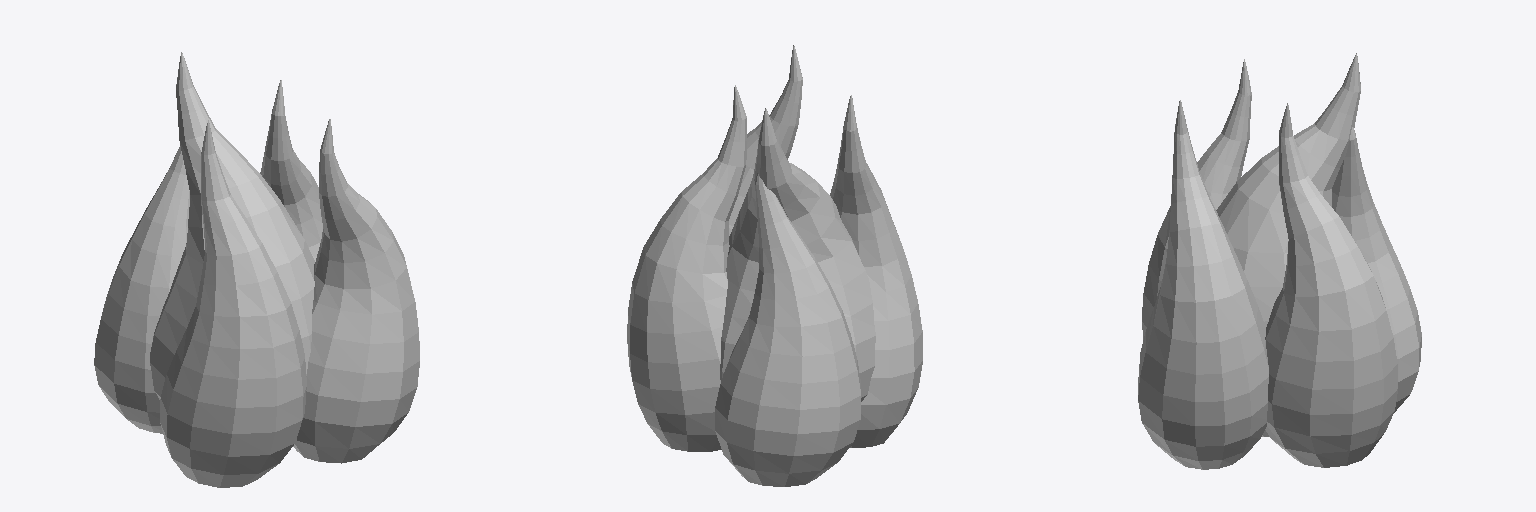
File: fire_000059.obj
3 renders of one model, left to right at view 1: azimuth 30°, elevation 25°; view 2: azimuth 150°, elevation 25°; view 3: azimuth 270°, elevation 25°, orthographic.
Parts seen in each view (by area): view 1: flame_NurbsPath.015; view 2: flame_NurbsPath.015; view 3: flame_NurbsPath.015.
Boxes of the visible parts, <box> form: flame_NurbsPath.015: <box>94,52,419,487</box>; flame_NurbsPath.015: <box>627,45,922,486</box>; flame_NurbsPath.015: <box>1138,53,1421,469</box>.
Size of the model in its own units: 0.7639 by 1.15 by 0.7991.